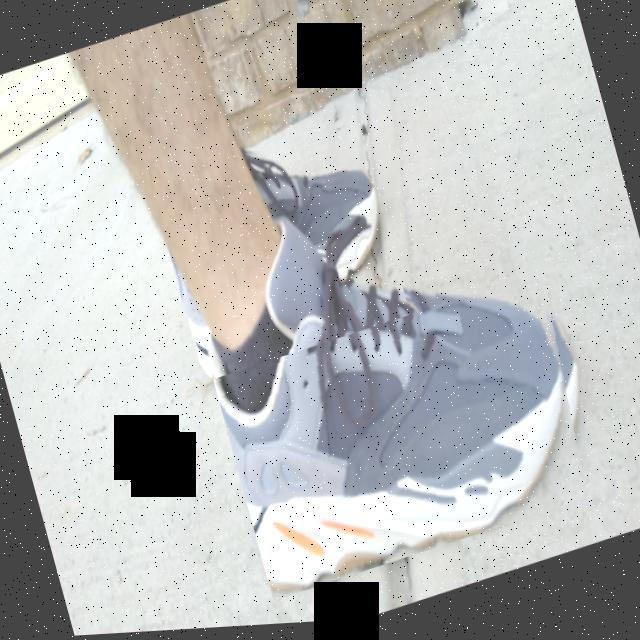shoe: (176, 139, 612, 609), (150, 114, 410, 387)
